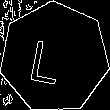L_N: (35, 30, 74, 85)
